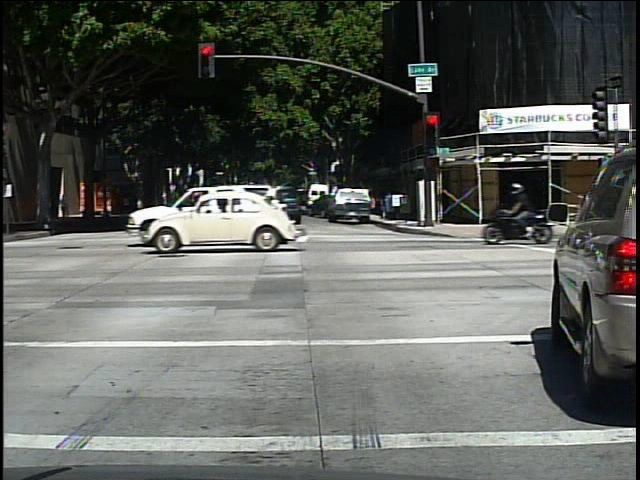person: (60, 191, 71, 223)
